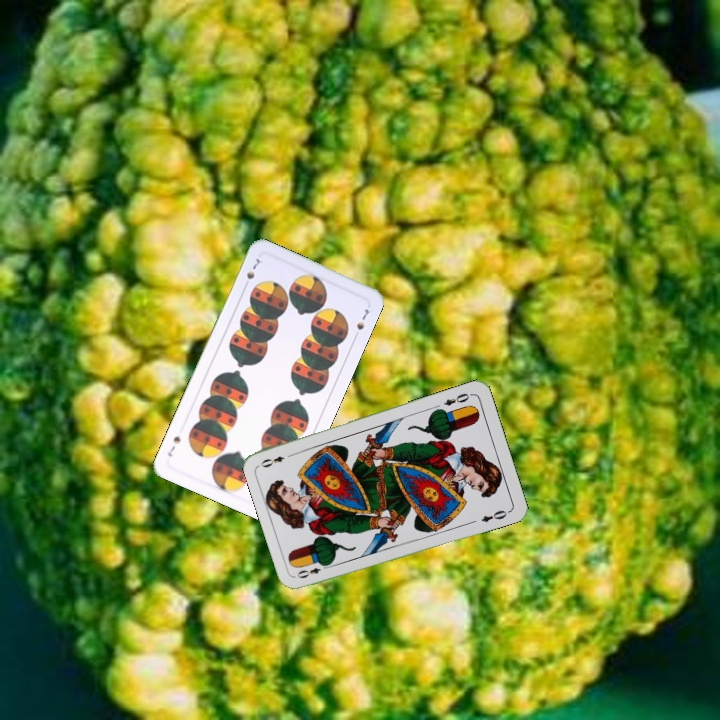EO: (293, 560, 332, 581), (440, 389, 475, 408)
S7: (240, 254, 262, 291)
